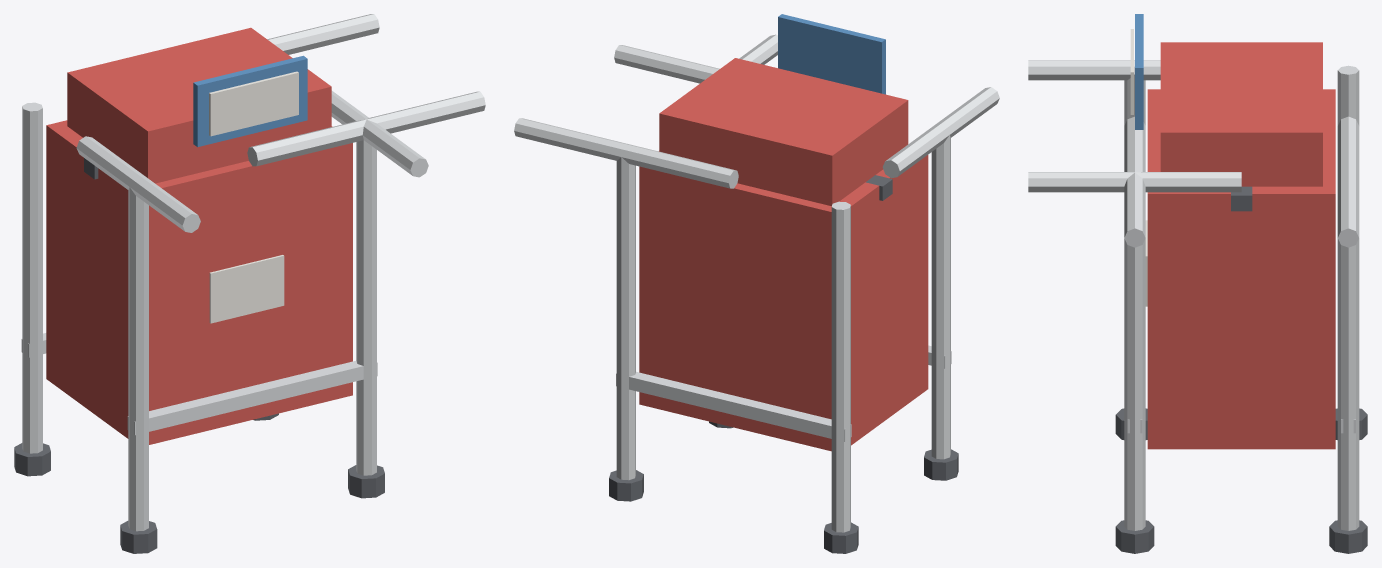
Rendered from parcel-depot-and-sorting-hall-parcel-depot-and-sorting-63001cf6__34794.glb.
The picture shows the model from 3 angles, left to right: view 1: azimuth 30°, elevation 25°; view 2: azimuth 150°, elevation 25°; view 3: azimuth 270°, elevation 25°; orthographic projection. The views are drawn at different scales.
Visible parts, largest first — view 1: parcel-depot-and-sorting-hall-post-bag-on-frame; view 2: parcel-depot-and-sorting-hall-post-bag-on-frame; view 3: parcel-depot-and-sorting-hall-post-bag-on-frame.
Part boxes in pixels (x1,y1,x2,y2): parcel-depot-and-sorting-hall-post-bag-on-frame: (14,14,485,553); parcel-depot-and-sorting-hall-post-bag-on-frame: (514,14,999,553); parcel-depot-and-sorting-hall-post-bag-on-frame: (1028,14,1367,553).
Size of the model in its own units: 0.975 by 1.16 by 0.795.
